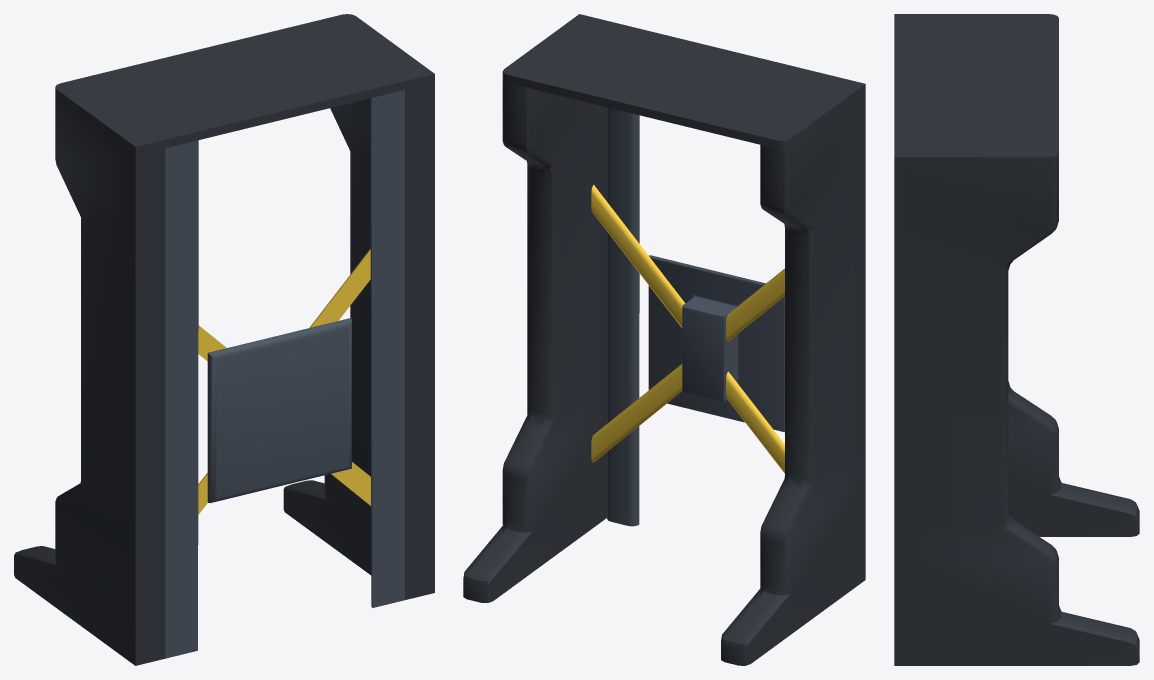
The model's file is MM_SpaceSuit_Station.fbx.
The picture shows the model from 3 angles, left to right: view 1: azimuth 30°, elevation 25°; view 2: azimuth 150°, elevation 25°; view 3: azimuth 270°, elevation 25°; orthographic projection. The views are drawn at different scales.
Visible parts, largest first — view 1: SpaceSuit_Station; view 2: SpaceSuit_Station; view 3: SpaceSuit_Station.
Boxes of the visible parts, bbox=[...] form: SpaceSuit_Station: bbox=[14, 14, 434, 665]; SpaceSuit_Station: bbox=[463, 14, 865, 665]; SpaceSuit_Station: bbox=[894, 14, 1139, 665].
Bounding box in the file's own units: 130 × 216 × 94.12.
